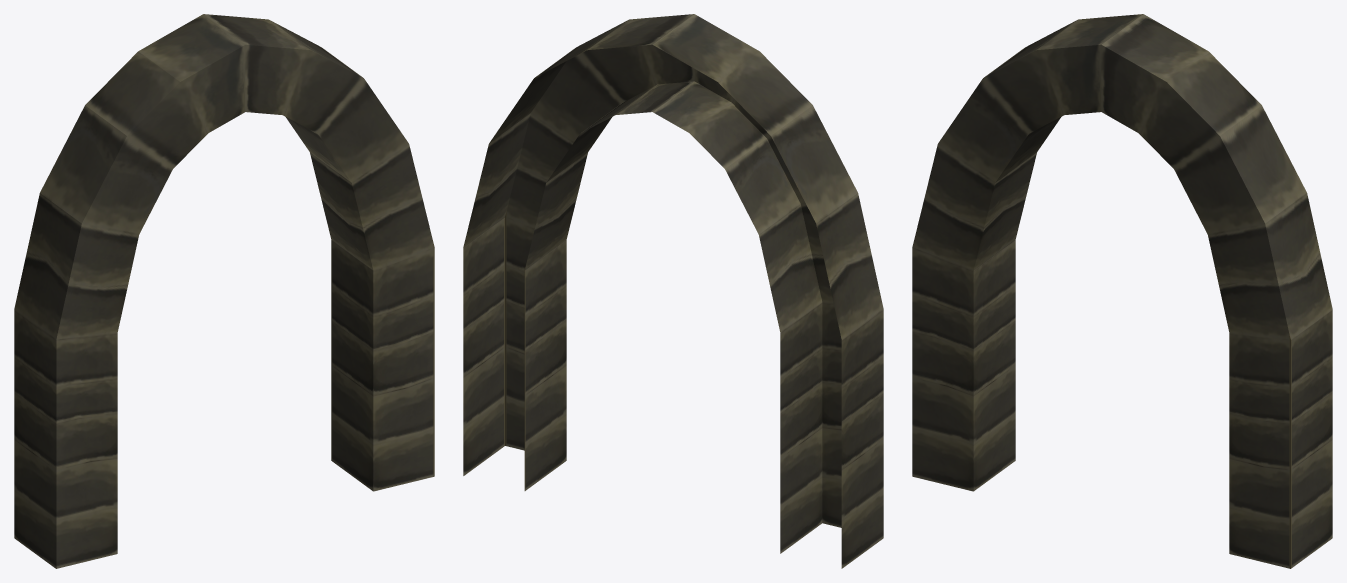
The model's file is Arch.fbx.
The picture shows the model from 3 angles, left to right: view 1: azimuth 30°, elevation 25°; view 2: azimuth 150°, elevation 25°; view 3: azimuth 330°, elevation 25°; orthographic projection.
Parts seen in each view (by area): view 1: Door2; view 2: Door2; view 3: Door2.
Part boxes in pixels (box(x1,y1,x2,y2)): Door2: box(14, 14, 434, 568); Door2: box(463, 14, 883, 568); Door2: box(912, 14, 1332, 568).
Bounding box in the file's own units: 1.85 × 2.23 × 0.3555.
